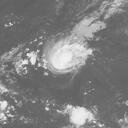cyclone: (48, 39, 84, 72)
